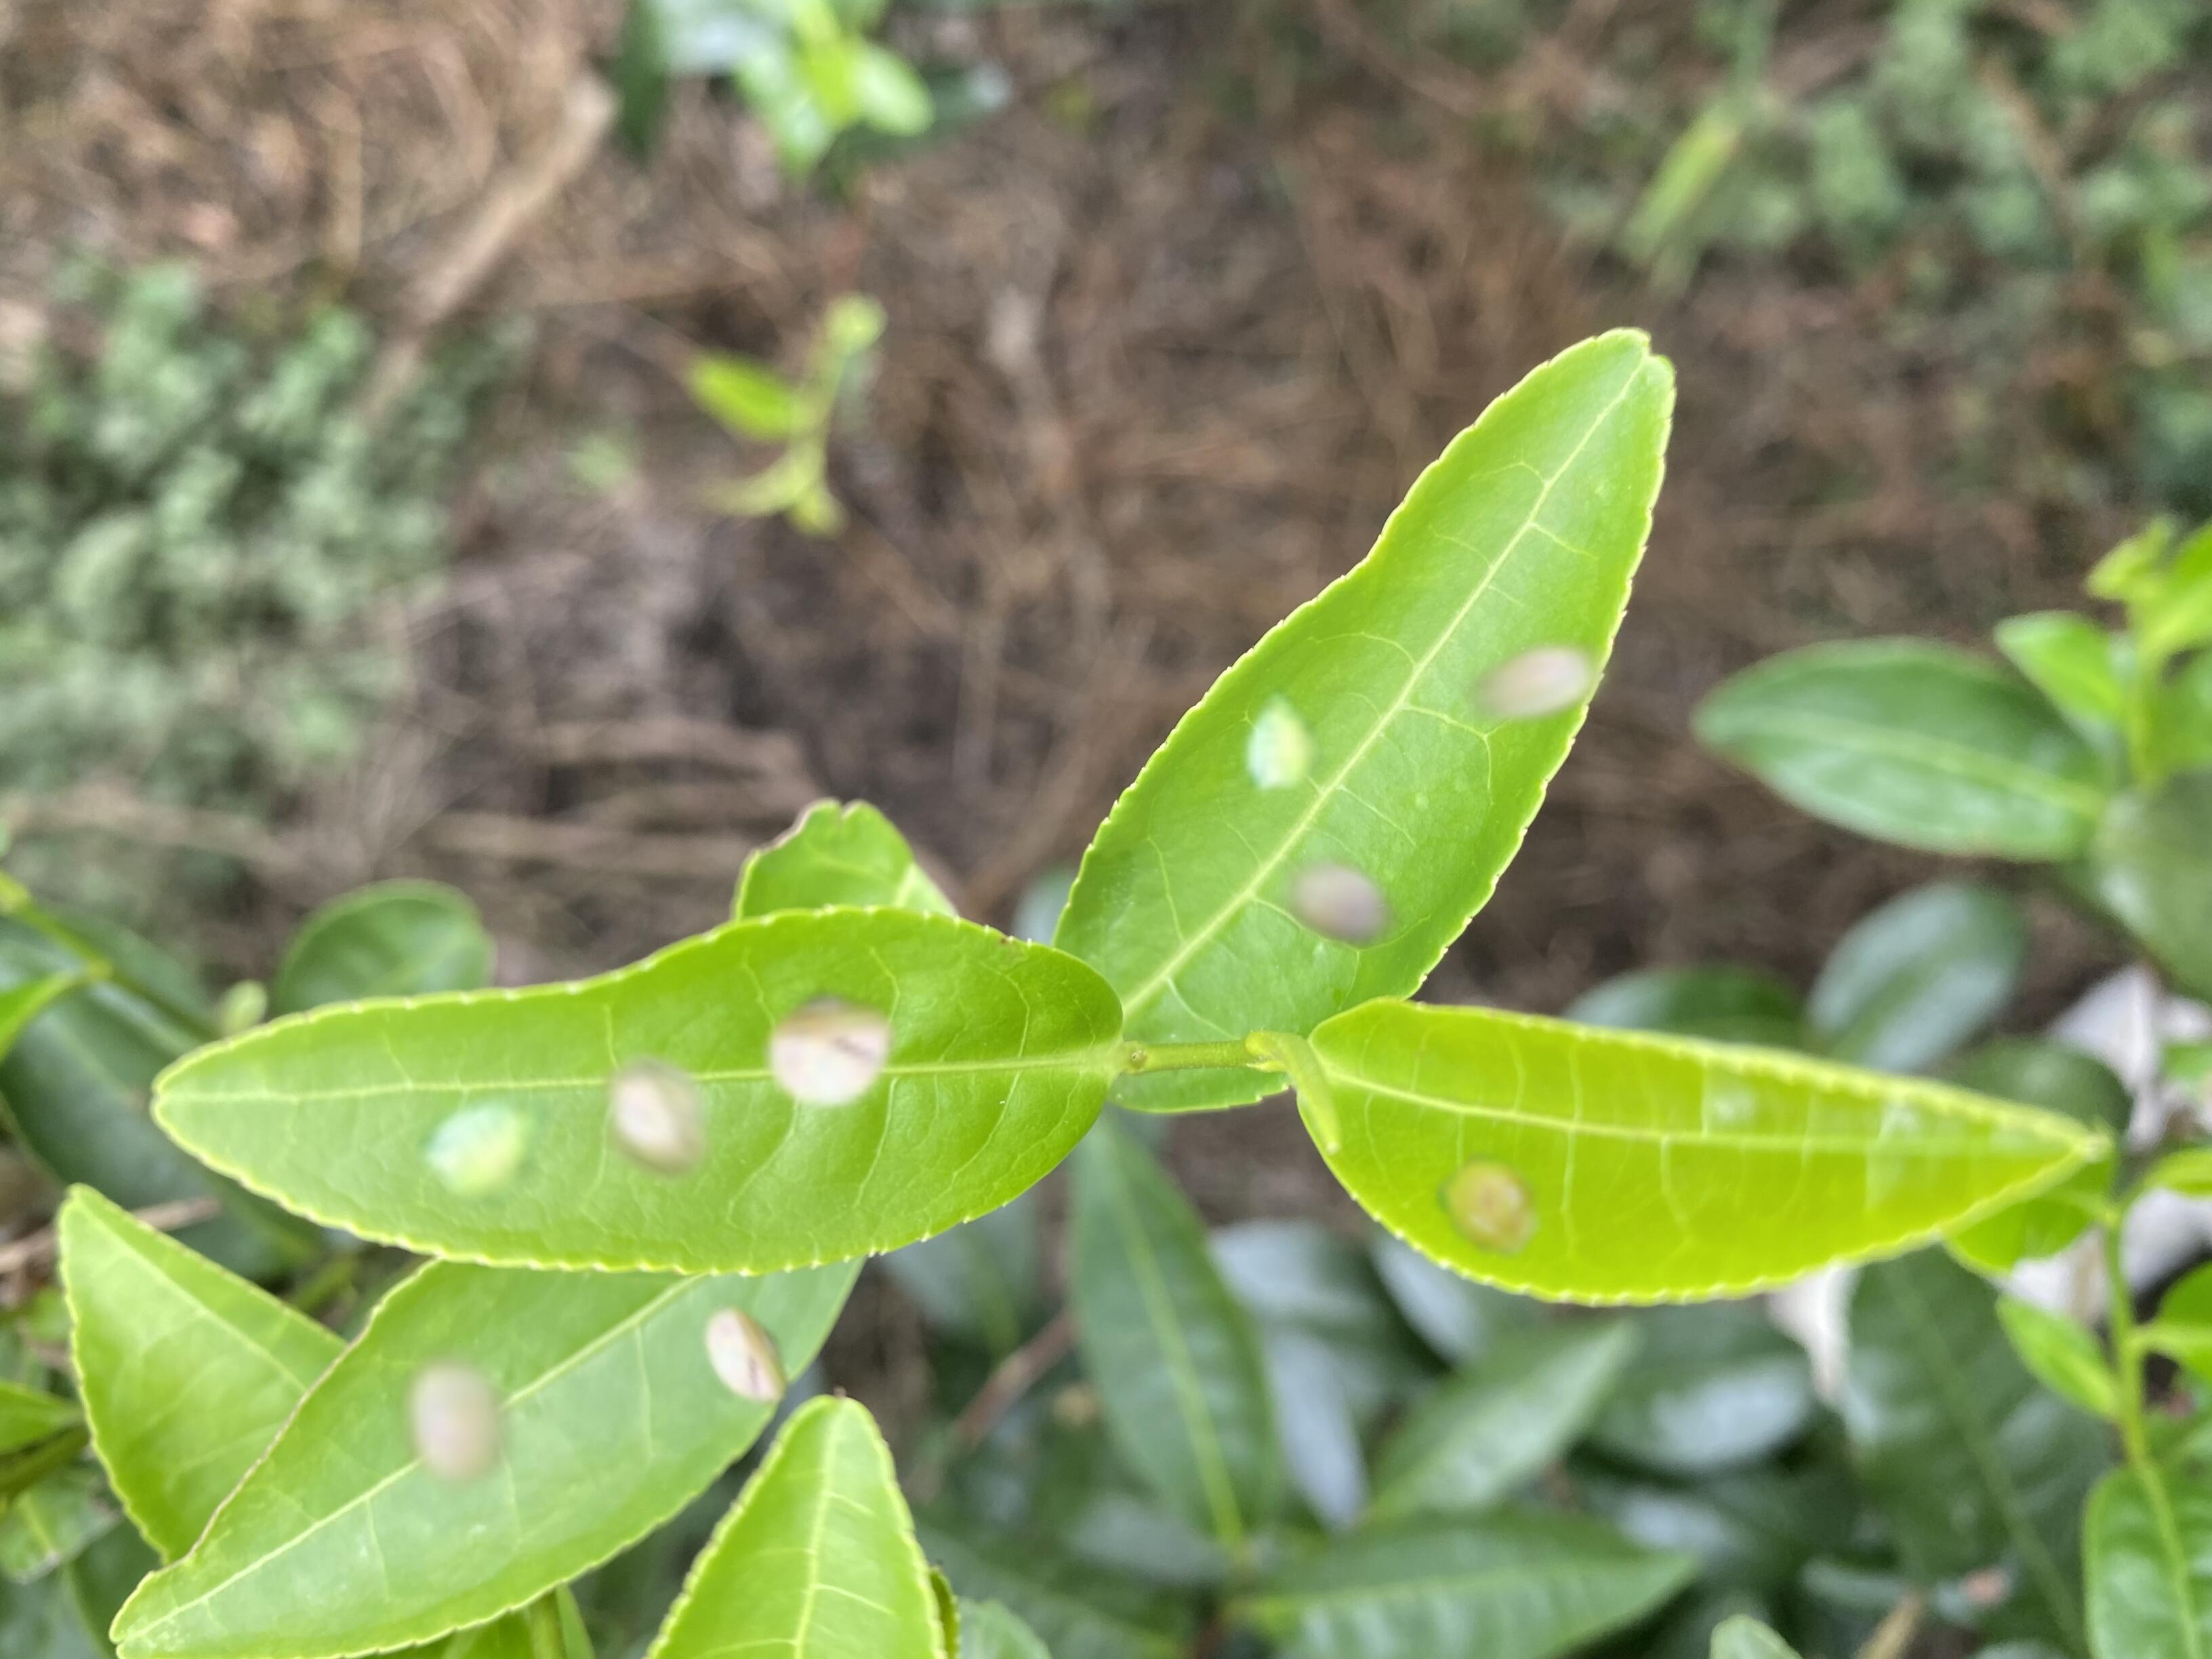chabing_high: (1055, 328, 1679, 1108), (152, 906, 1120, 1277), (110, 1258, 862, 1656)
chabing_low: (1296, 997, 2102, 1307)
